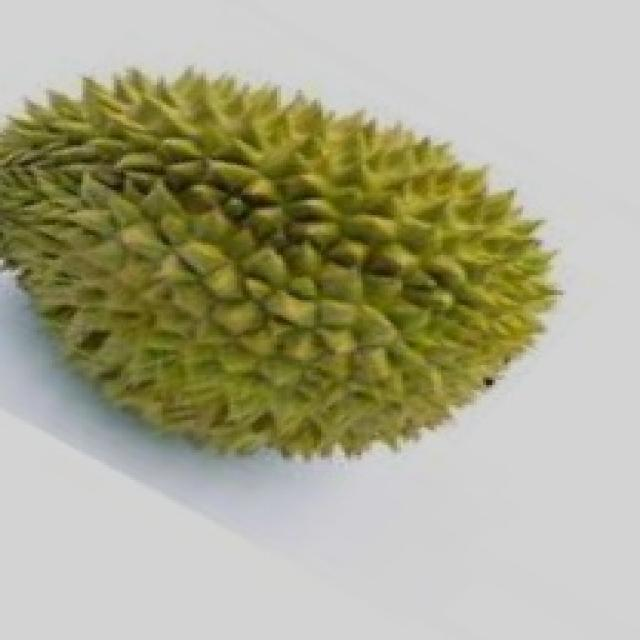fruit: (231, 105, 618, 525), (3, 175, 360, 530)
